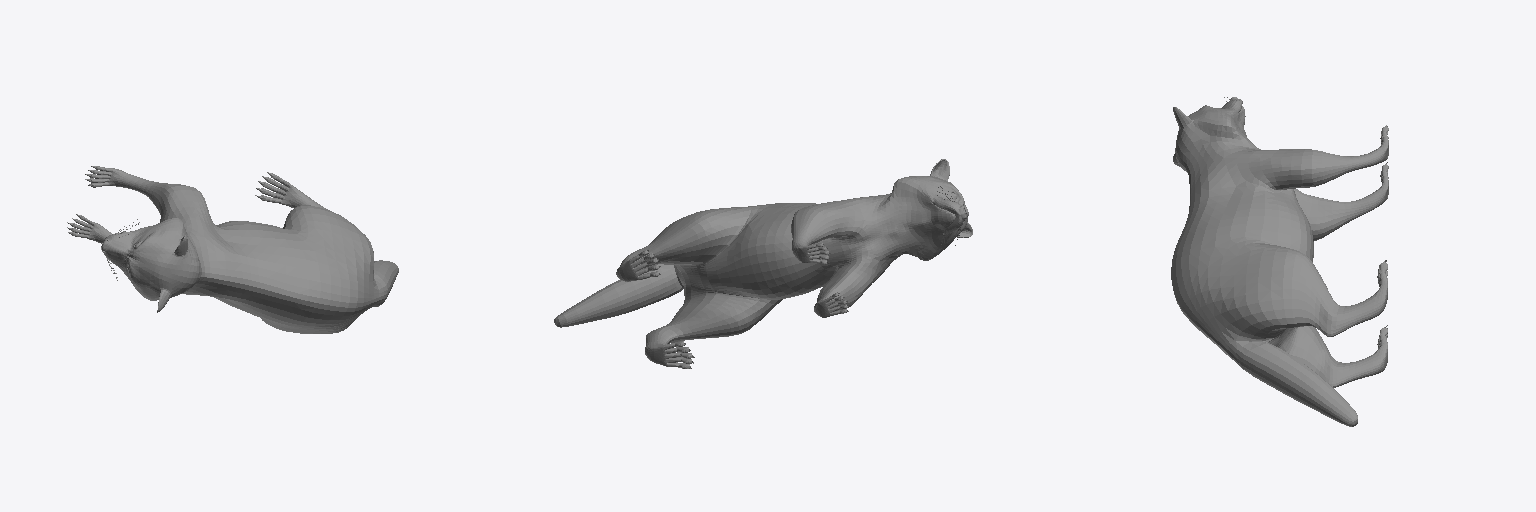
Rendered from help.obj.
3 views of the same model, side by side, from view 1: azimuth 30°, elevation 25°; view 2: azimuth 150°, elevation 25°; view 3: azimuth 270°, elevation 25° (orthographic).
Visible parts, largest first — view 1: gift; view 2: gift; view 3: gift.
Boxes of the visible parts, box(x1,y1,x2,y2) form: gift: box(67, 166, 398, 333); gift: box(554, 159, 972, 368); gift: box(1171, 97, 1388, 426).
Size of the model in its own units: 11.2 by 5.37 by 5.95.